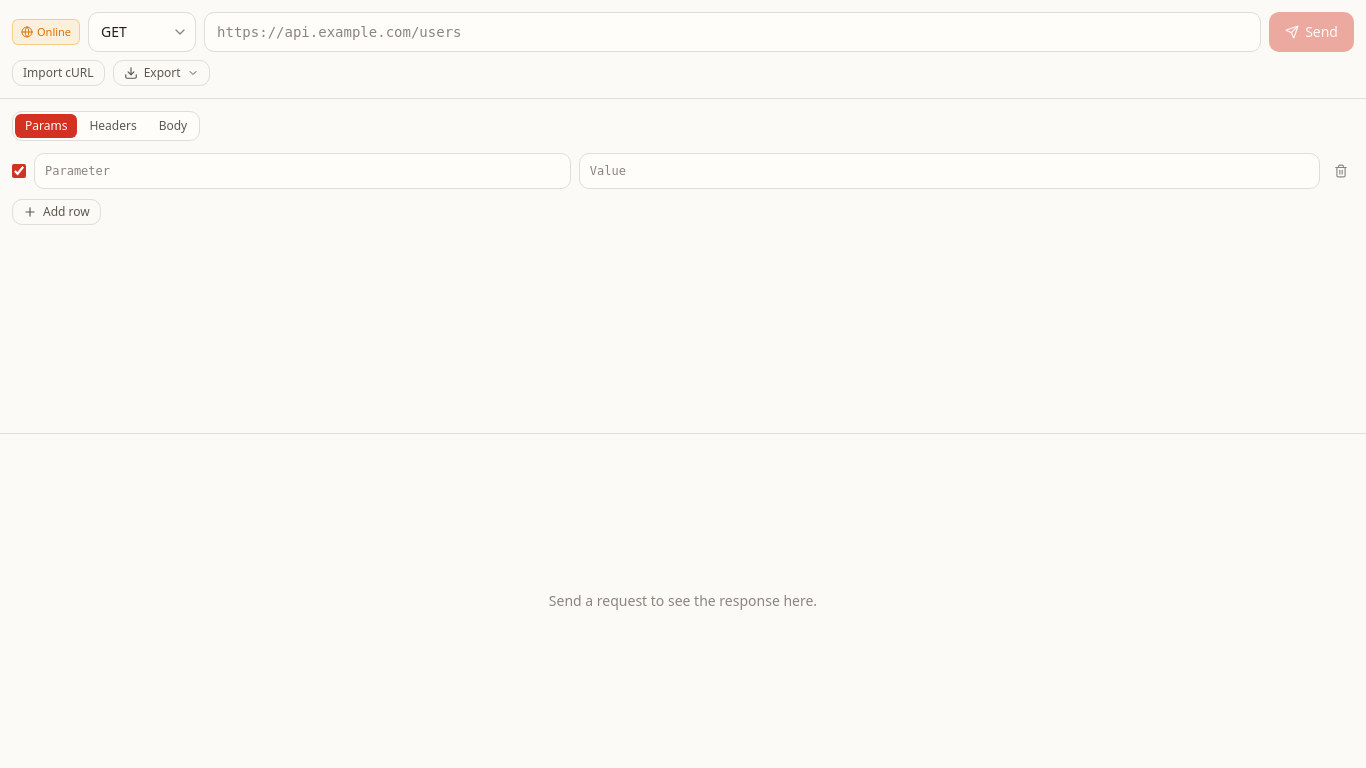
Test: HttpClientTool › imports a curl command and populates the URL
The width and height of the screenshot is (1366, 768).
Click the button "Import cURL" at point(58, 73), box [12,60,105,86]
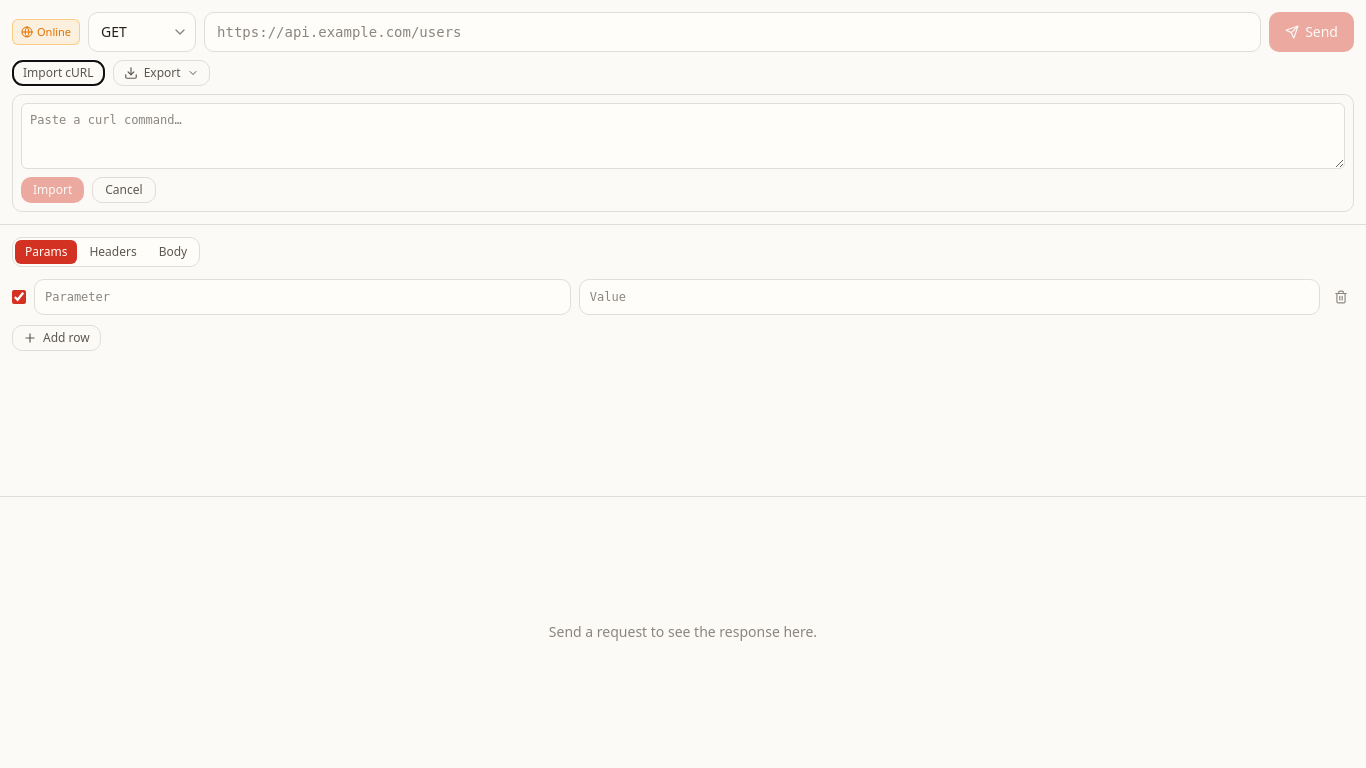
Type "curl -X POST https://imported.example.com" into the text box named "cURL command to import" at point(683, 136), box [21,103,1345,169]
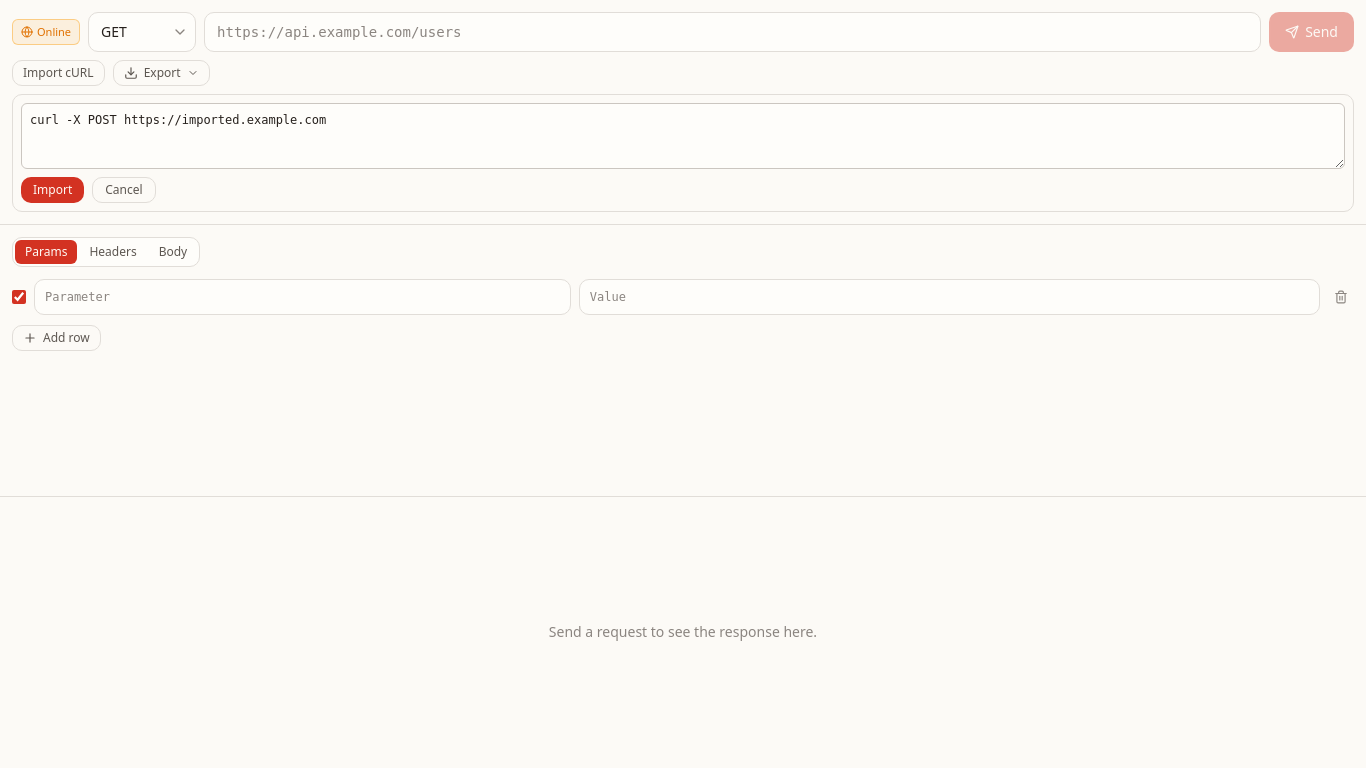
Click the button "Import" at point(53, 190), box [21,177,84,203]
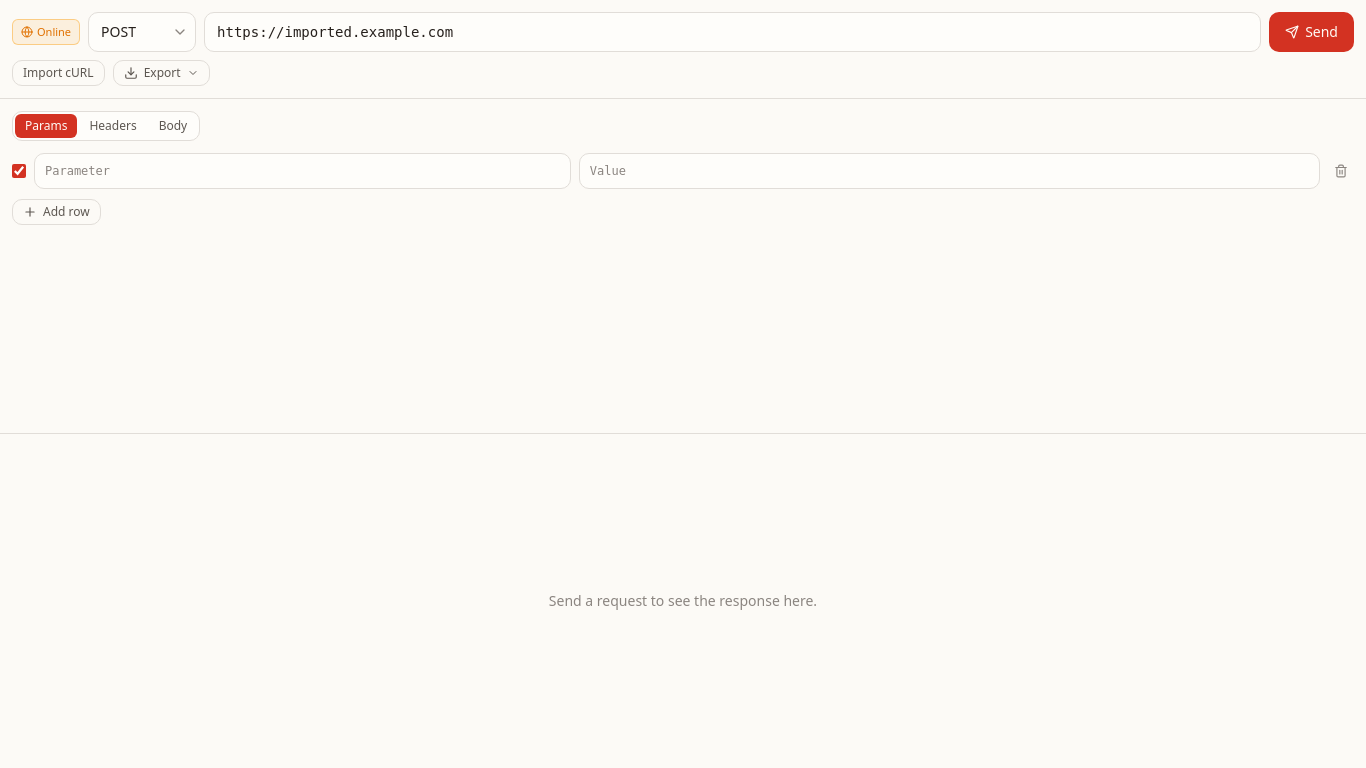
Now the field named "Request URL" holds "https://imported.example.com", box [204,12,1261,52]
